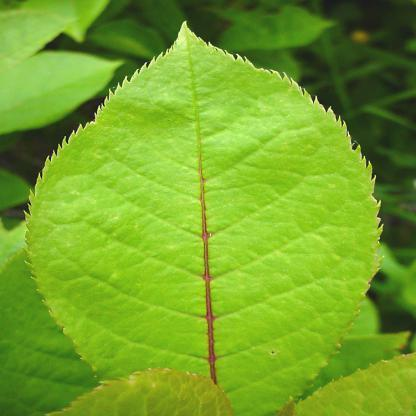Cherry leaf: (20, 19, 401, 413)
